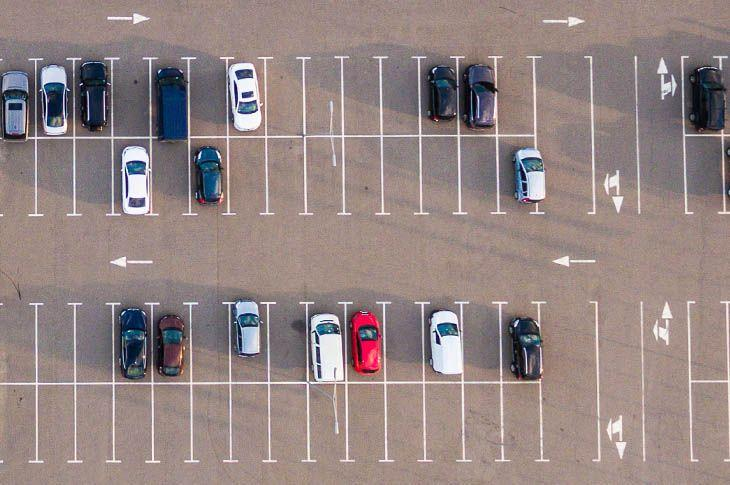car: (494, 297, 547, 385), (303, 296, 353, 389), (143, 55, 197, 140), (339, 294, 389, 385), (419, 298, 470, 387), (183, 134, 234, 221), (227, 295, 275, 387), (415, 53, 465, 138), (677, 57, 730, 137), (109, 300, 158, 386), (495, 131, 542, 218), (455, 51, 502, 137), (149, 299, 196, 385), (71, 53, 117, 140), (34, 55, 79, 142), (111, 134, 158, 217), (225, 55, 271, 138), (0, 57, 39, 139)
